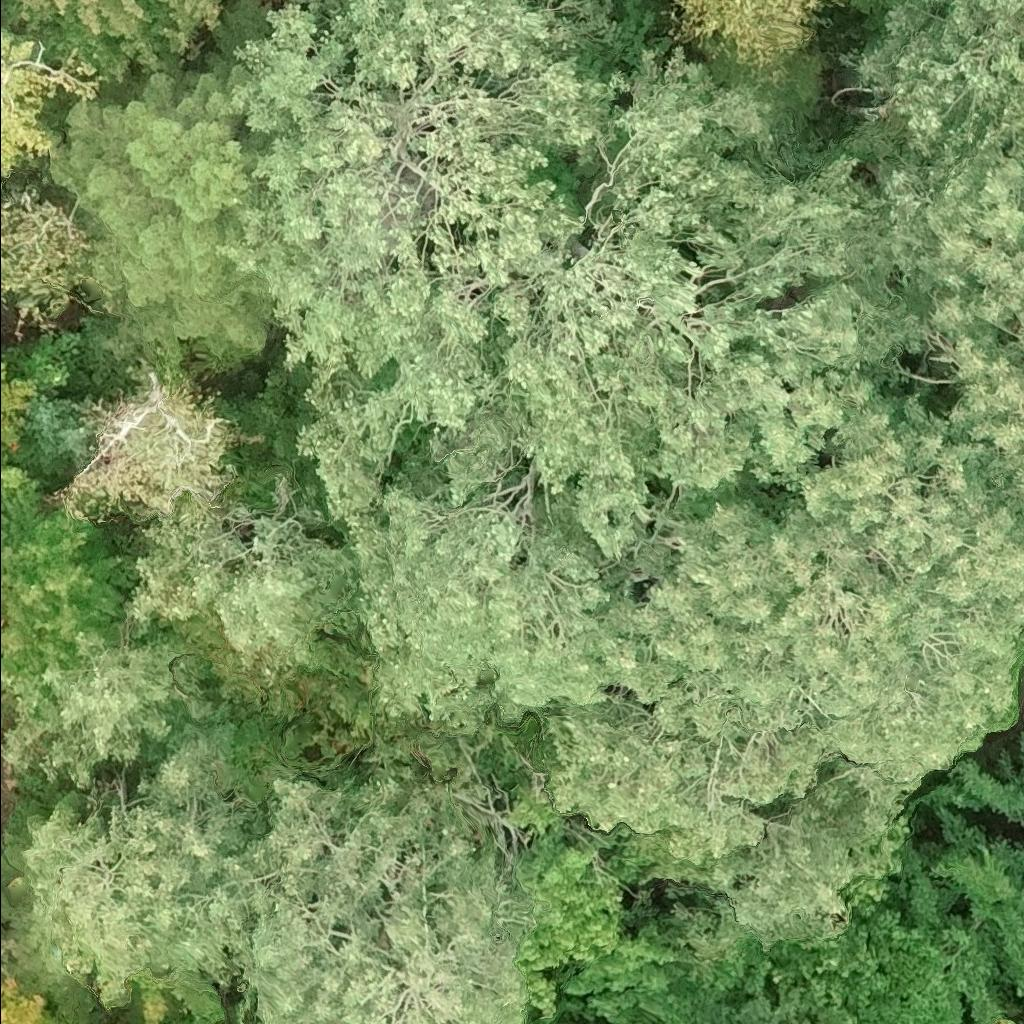crown: (420, 44, 932, 573), (218, 0, 639, 524), (599, 477, 1023, 801), (799, 126, 1023, 633), (221, 760, 538, 1023), (340, 451, 642, 727), (48, 46, 279, 373), (3, 720, 263, 1006), (530, 691, 830, 869), (666, 753, 908, 958), (126, 482, 360, 678), (511, 782, 686, 1023), (0, 631, 215, 789), (52, 378, 265, 529), (835, 0, 1023, 154), (0, 482, 149, 673), (0, 0, 222, 79), (663, 0, 841, 94), (0, 24, 85, 173), (0, 196, 93, 329), (12, 392, 80, 478), (0, 974, 72, 1023), (836, 0, 915, 41), (53, 406, 101, 472), (274, 0, 345, 34), (0, 445, 34, 503), (0, 499, 16, 552), (994, 1015, 1020, 1023), (666, 1020, 708, 1023), (1020, 644, 1023, 653)
